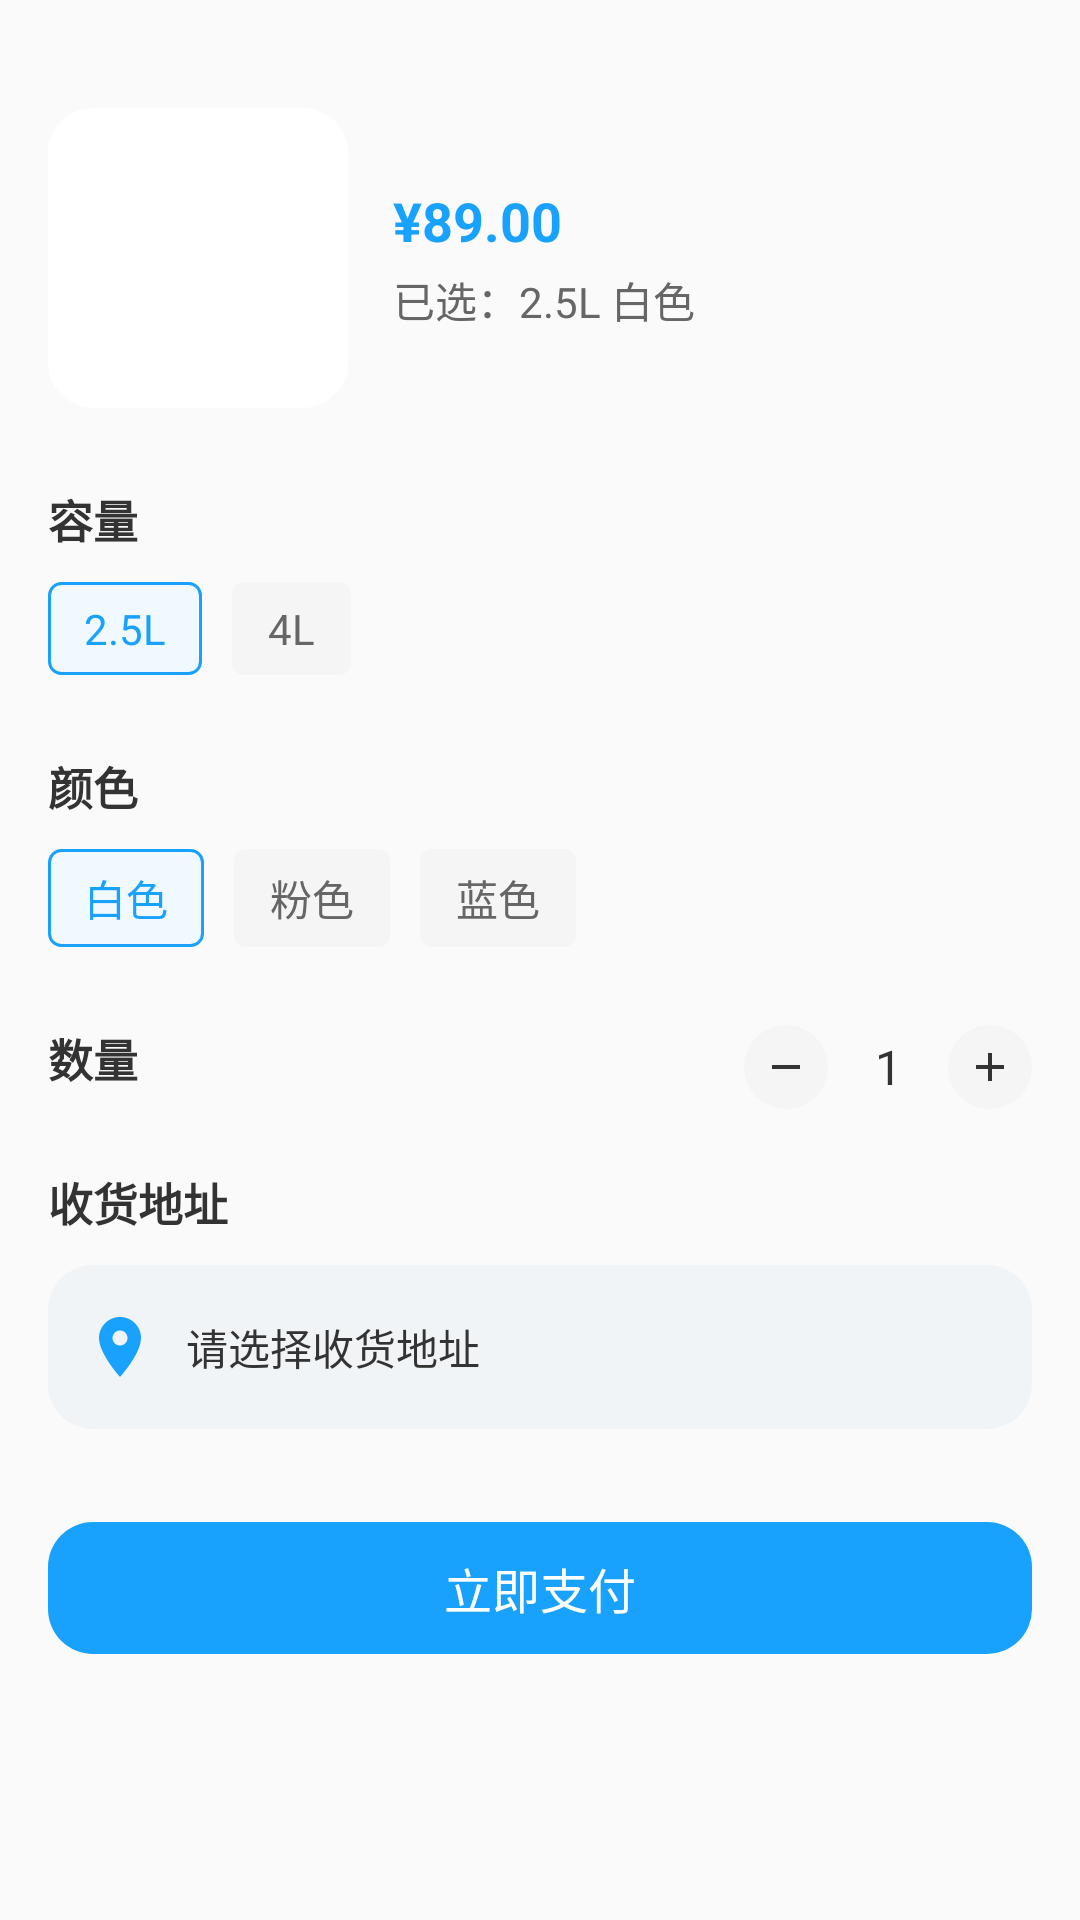

Named icons in this screenshot (1080px x 1920px) and their centers, (x=x, y=y):
location: (x=120, y=1347)
plus: (x=990, y=1067)
